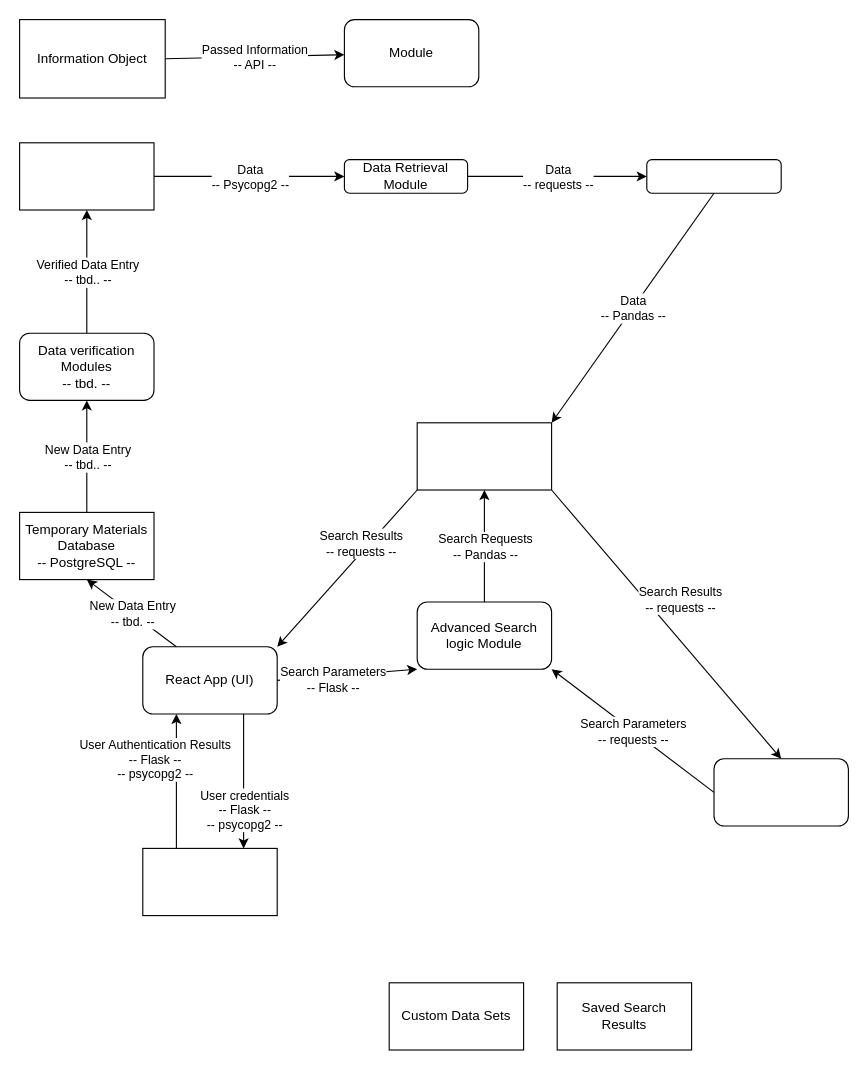
Image size: 868x1070. Some labels were removed from this diagram. The shapes that lost their labels are listed below. From the top down, each one's centre as x and y in pixels, then its label:
(x=86, y=176): Materials Database -- PostgreSQL --
(x=713, y=175): Conversion Module
(x=484, y=456): DataFrame
(x=780, y=792): PyQt6 GUI
(x=209, y=881): User Database -- PostgreSQL --
